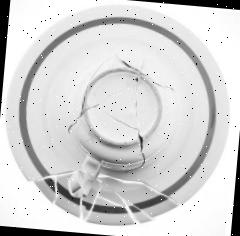glass: (0, 6, 233, 235)
